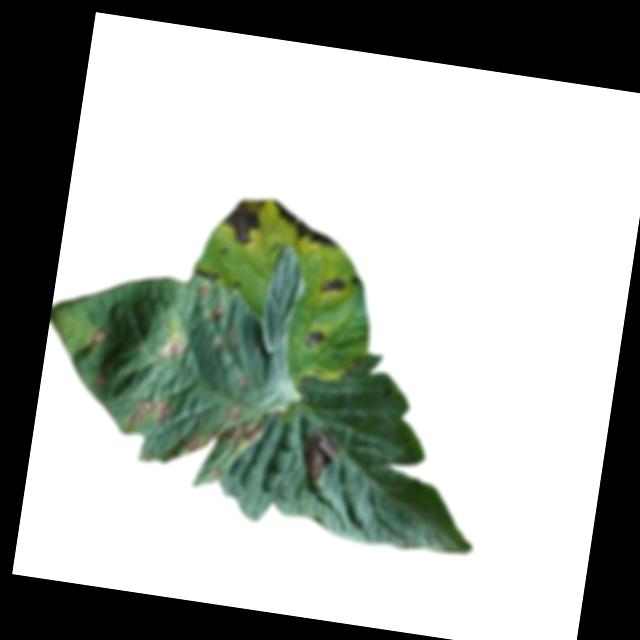Early_blight: (265, 199, 341, 248), (218, 192, 267, 248), (299, 425, 342, 485), (127, 394, 174, 435), (222, 415, 264, 453), (153, 335, 188, 364), (320, 274, 350, 297), (189, 266, 218, 284), (304, 329, 326, 351), (88, 325, 110, 347), (184, 429, 202, 453), (210, 303, 226, 324), (225, 405, 240, 422), (198, 284, 212, 301)
